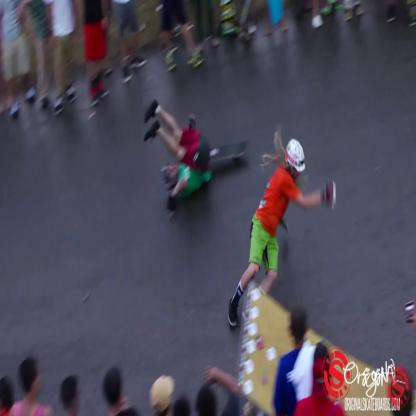Fall_Down: (140, 94, 216, 216)
